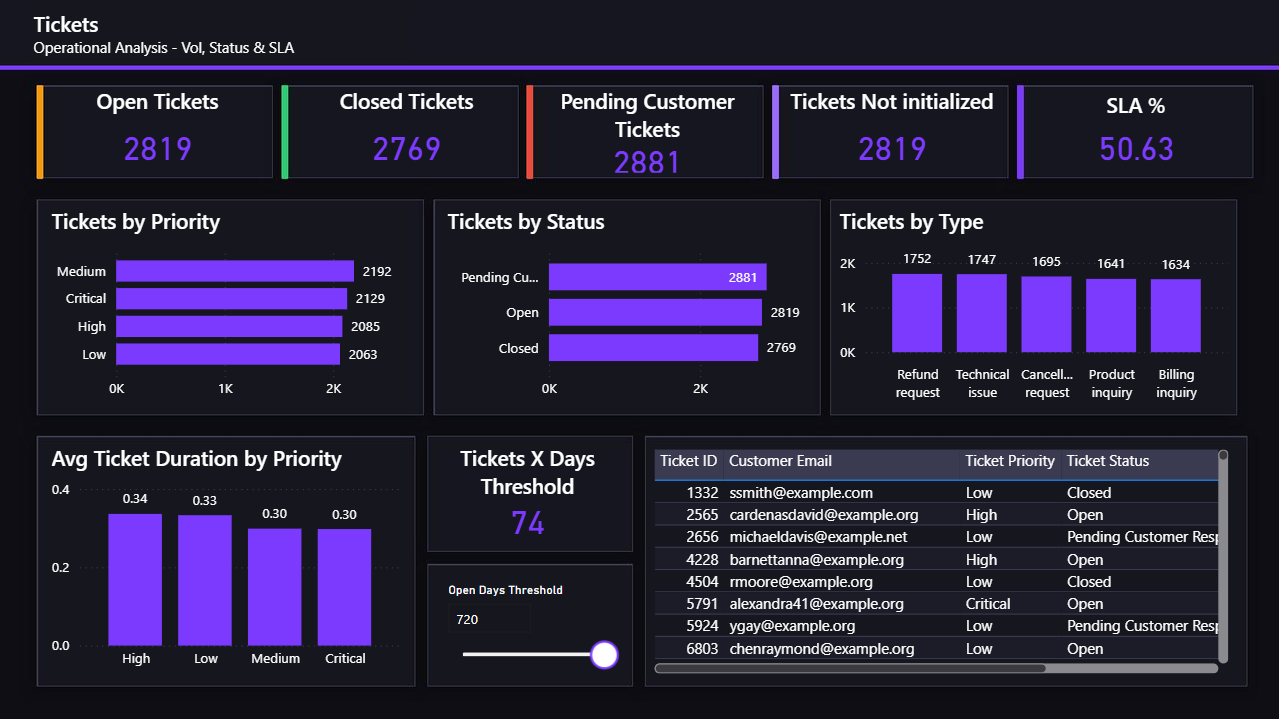

Layout of this report page (visuals, bound fields, positions):
{"tool":"powerbi","page":{"name":"Tickets","canvas":[1280,720],"ordinal":1},"visuals":[{"type":"card","title":"Open Tickets","fields":{"Values":["_Measure.02 Open Tickets"]},"box":[123,117.6,200.2,81.7],"z":0},{"type":"card","title":"Closed Tickets","fields":{"Values":["_Measure.03 Closed Tickets"]},"box":[351,117.6,191.2,81.7],"z":1000},{"type":"card","title":"Pending Customer Tickets","fields":{"Values":["_Measure.04 Pending Customer Response Tickets"]},"box":[561.1,117.6,203.8,81.7],"z":2000},{"type":"card","title":"SLA %","fields":{"Values":["_Measure.07 SLA %"]},"box":[1003.7,121.2,195.7,75.4],"z":3000},{"type":"clusteredBarChart","title":"Tickets by  Priority","fields":{"Y":["_Measure.01 Total Tickets"],"Category":["customer_support_tickets.Ticket Priority"]},"box":[123,225.3,327.7,181.3],"z":4000},{"type":"columnChart","title":"Avg Ticket Duration by Priority","fields":{"Category":["customer_support_tickets.Ticket Priority"],"Y":["_Measure.06 AVG Ticket Duration"]},"box":[123,438.1,324.1,211],"z":5000},{"type":"clusteredBarChart","title":"Tickets by  Status","fields":{"Y":["_Measure.01 Total Tickets"],"Category":["customer_support_tickets.Ticket Status"]},"box":[478.5,225.3,334,181.3],"z":6000},{"type":"columnChart","title":"Tickets by  Type","fields":{"Category":["customer_support_tickets.Ticket Type"],"Y":["_Measure.01 Total Tickets"]},"box":[830.4,225.3,359.1,181.3],"z":7000},{"type":"textbox","box":[106.8,43.1,343.8,52.1],"z":8000},{"type":"card","title":"Tickets Not initialized","fields":{"Values":["_Measure.05 Tickets Sem Resposta"]},"box":[781.9,117.6,201.1,81.7],"z":9000},{"type":"tableEx","title":"Tickets by  Type","fields":{"Values":["customer_support_tickets.Ticket ID","customer_support_tickets.Customer Email","customer_support_tickets.Ticket Priority","customer_support_tickets.Ticket Status","customer_support_tickets.Date of Purchase"]},"box":[663.4,438.1,526.1,211],"z":10000},{"type":"card","title":"Tickets  X Days Threshold","fields":{"Values":["_Measure.09 Tickets +7 dias sem resolução"]},"box":[465,438.1,180.4,88],"z":11000},{"type":"slicer","fields":{"Values":["Open Days Threshold.Open Days Threshold"]},"box":[471.3,557.5,174.2,91.6],"z":12000}]}

Visuals, with their boxes in screenshot pixels (x1, y1, x2, y2), scaled from the page's 1280x720 canvas onto the 1281x719 screenshot:
"Open Tickets" card: 123/117/323/199
"Closed Tickets" card: 351/117/543/199
"Pending Customer Tickets" card: 562/117/765/199
"SLA %" card: 1004/121/1200/196
"Tickets by  Priority" clusteredBarChart: 123/225/451/406
"Avg Ticket Duration by Priority" columnChart: 123/437/447/648
"Tickets by  Status" clusteredBarChart: 479/225/813/406
"Tickets by  Type" columnChart: 831/225/1190/406
textbox: 107/43/451/95
"Tickets Not initialized" card: 783/117/984/199
"Tickets by  Type" tableEx: 664/437/1190/648
"Tickets  X Days Threshold" card: 465/437/646/525
slicer - Open Days Threshold.Open Days Threshold: 472/557/646/648
